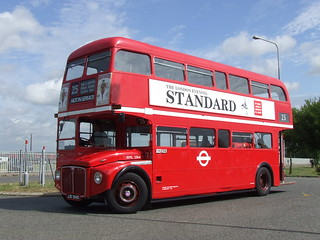bus: (54, 36, 293, 214)
